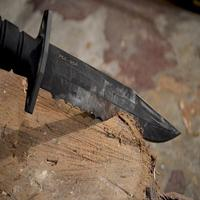knife: (1, 7, 180, 140)
